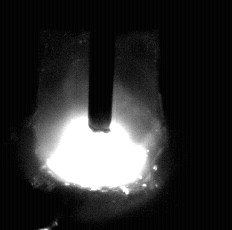arame: (89, 0, 114, 133)
poca: (36, 0, 166, 230)
